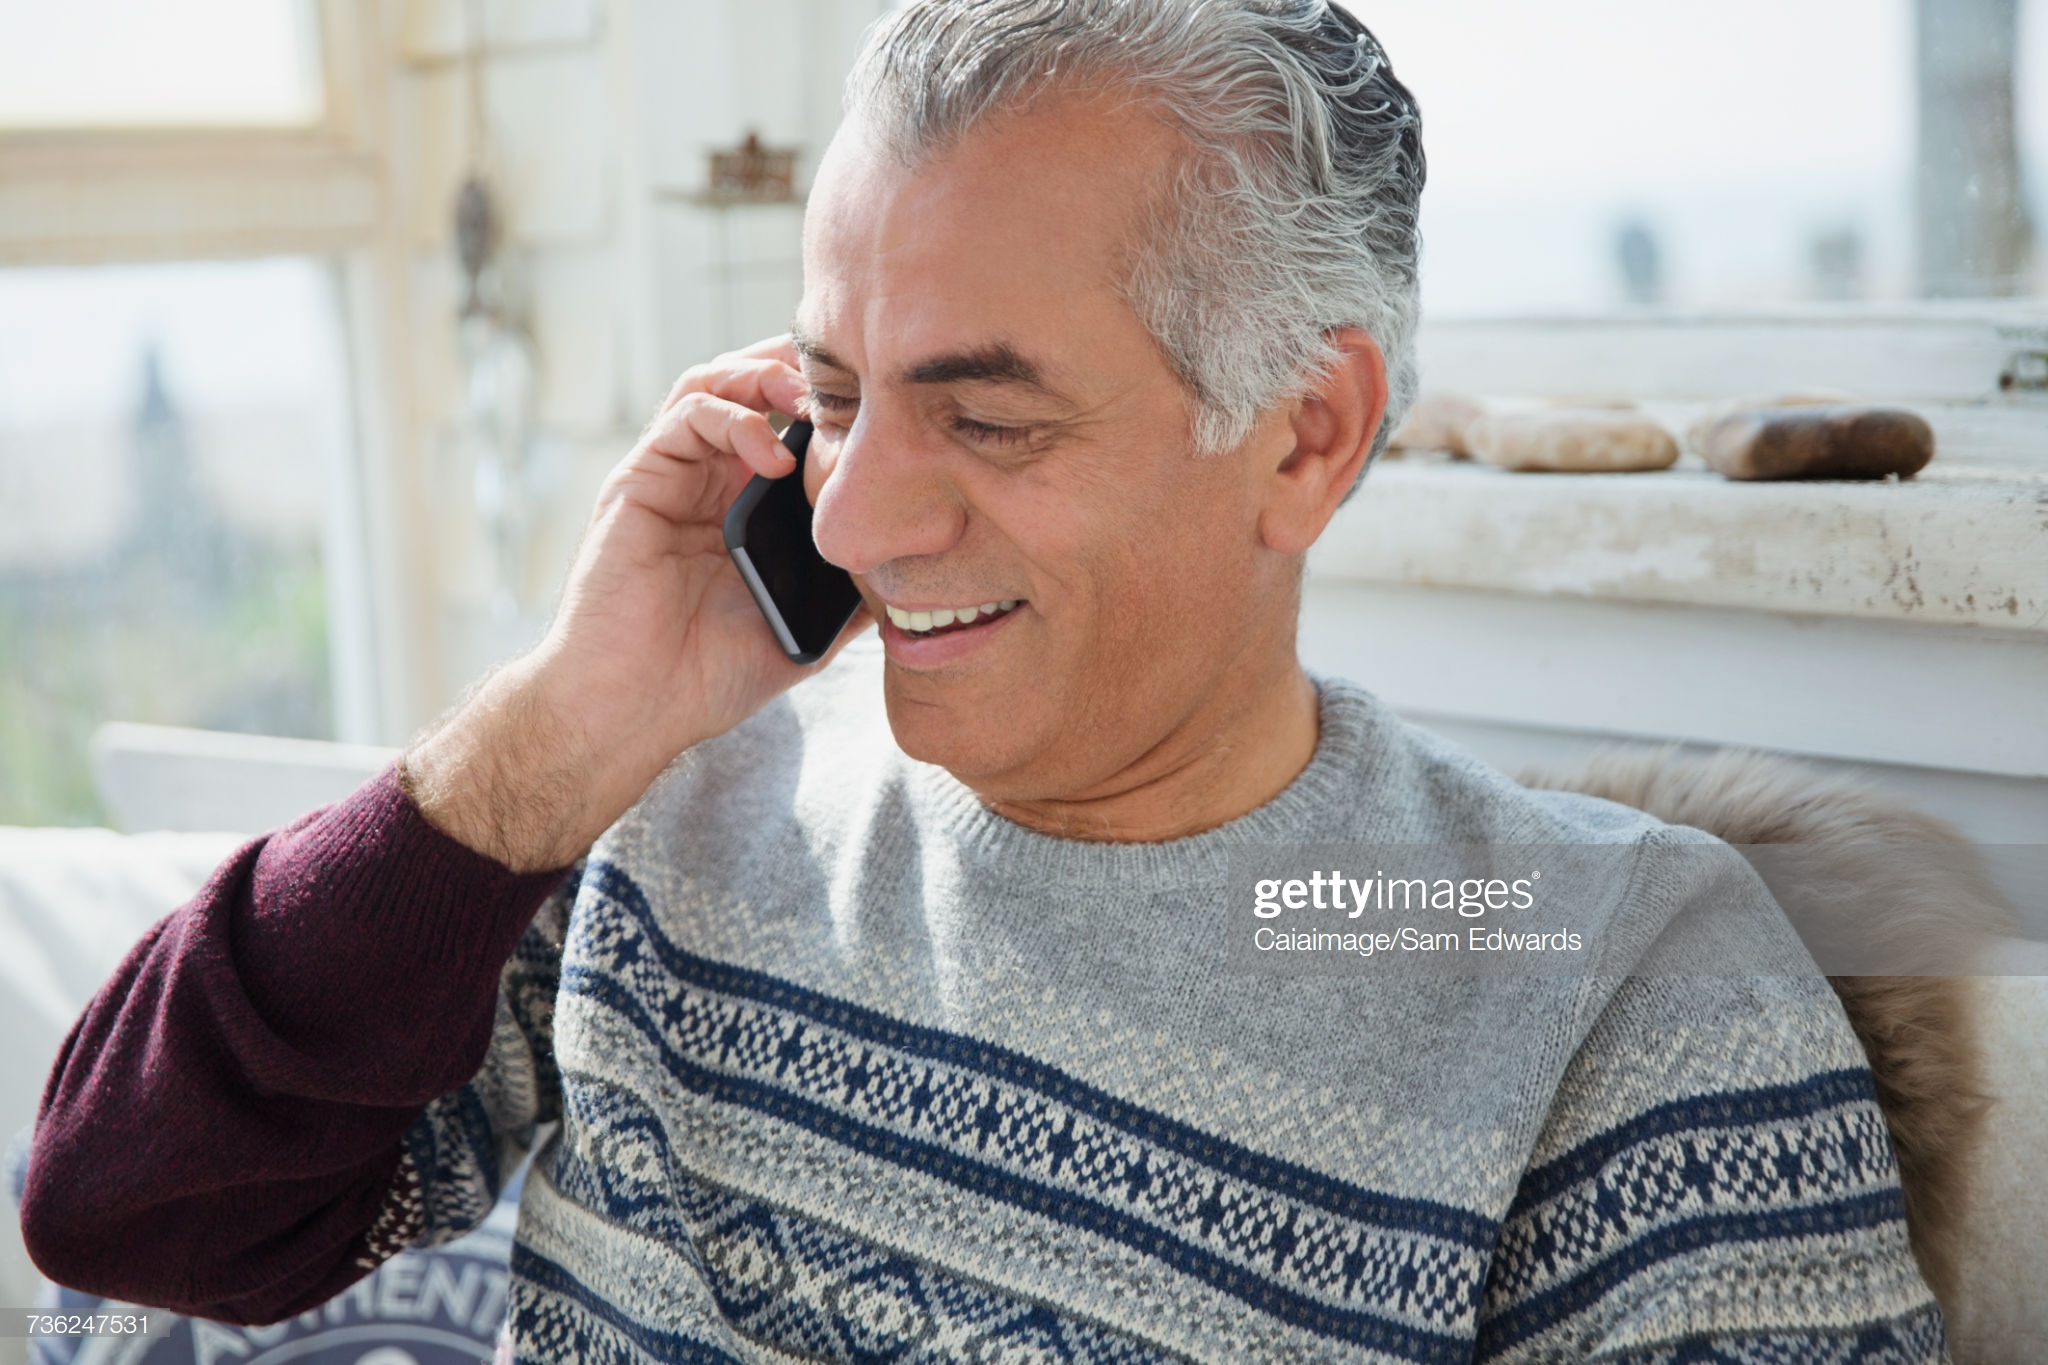phone: (664, 382, 863, 696)
talk: (562, 274, 1236, 807)
